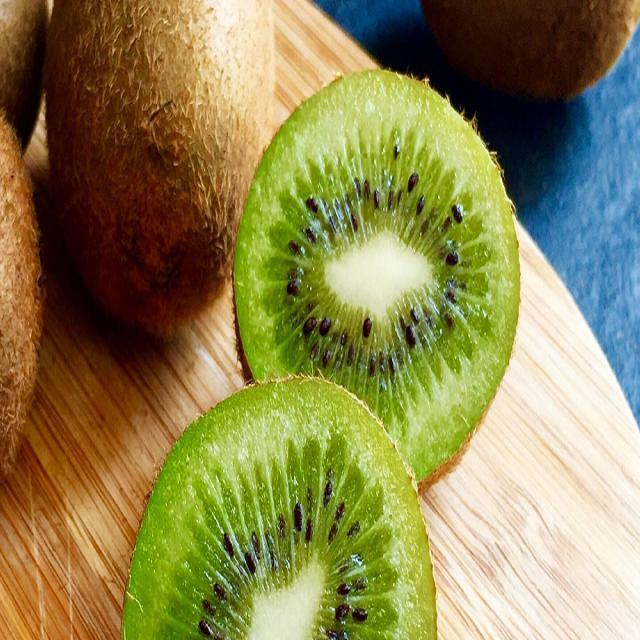kiwi: (47, 2, 287, 350)
